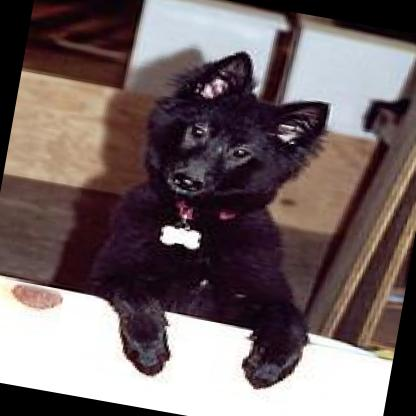groenendael: (62, 25, 352, 402)
